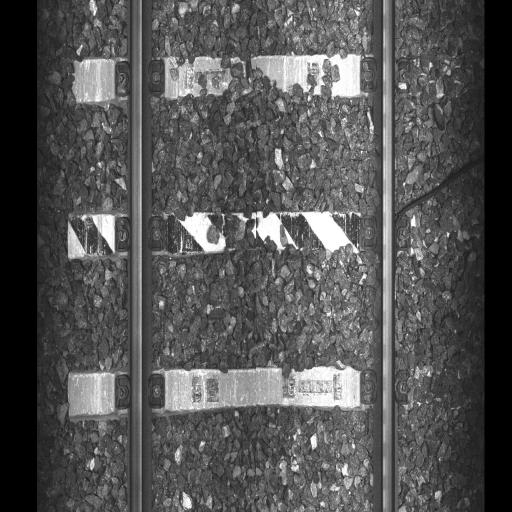clip: (360, 58, 417, 94), (113, 372, 165, 408), (359, 216, 412, 250), (114, 216, 168, 248), (360, 372, 412, 404), (114, 60, 164, 92)
sleeper: (67, 56, 457, 113), (66, 210, 456, 267), (66, 370, 456, 422)
